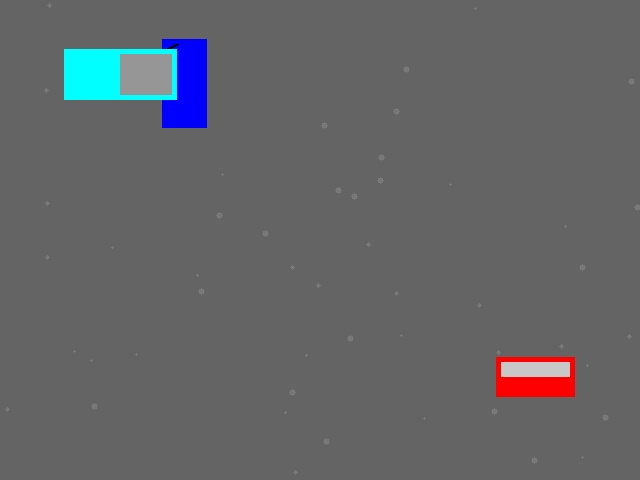car: (496, 357, 574, 396)
motorcycle: (162, 39, 206, 127)
truck: (64, 49, 176, 99)
